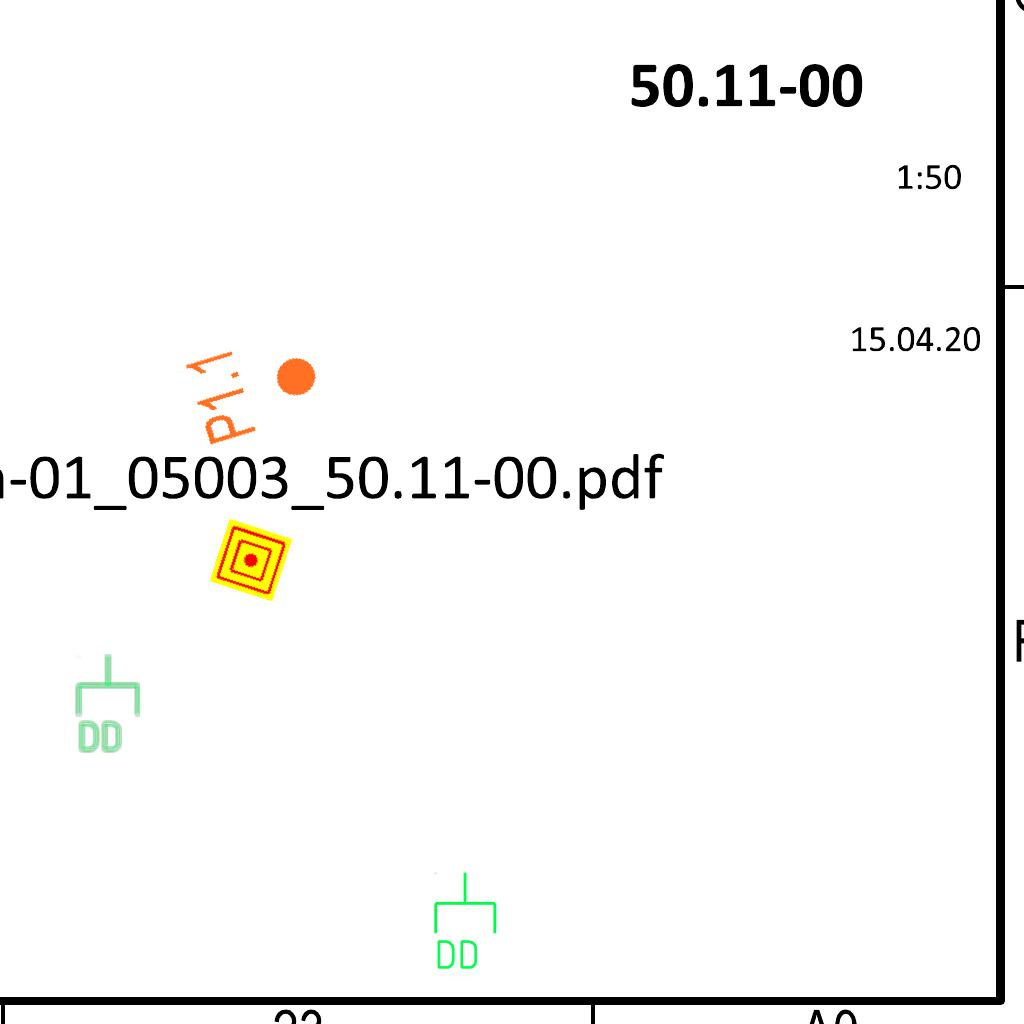Datenanschluss_zweifach: (73, 652, 142, 755), (430, 870, 499, 973)
Downlight_LED_Einbauleuchten_Flur: (180, 322, 331, 450)
NAM-Nichtautomatischer_Melder: (209, 518, 293, 602)
